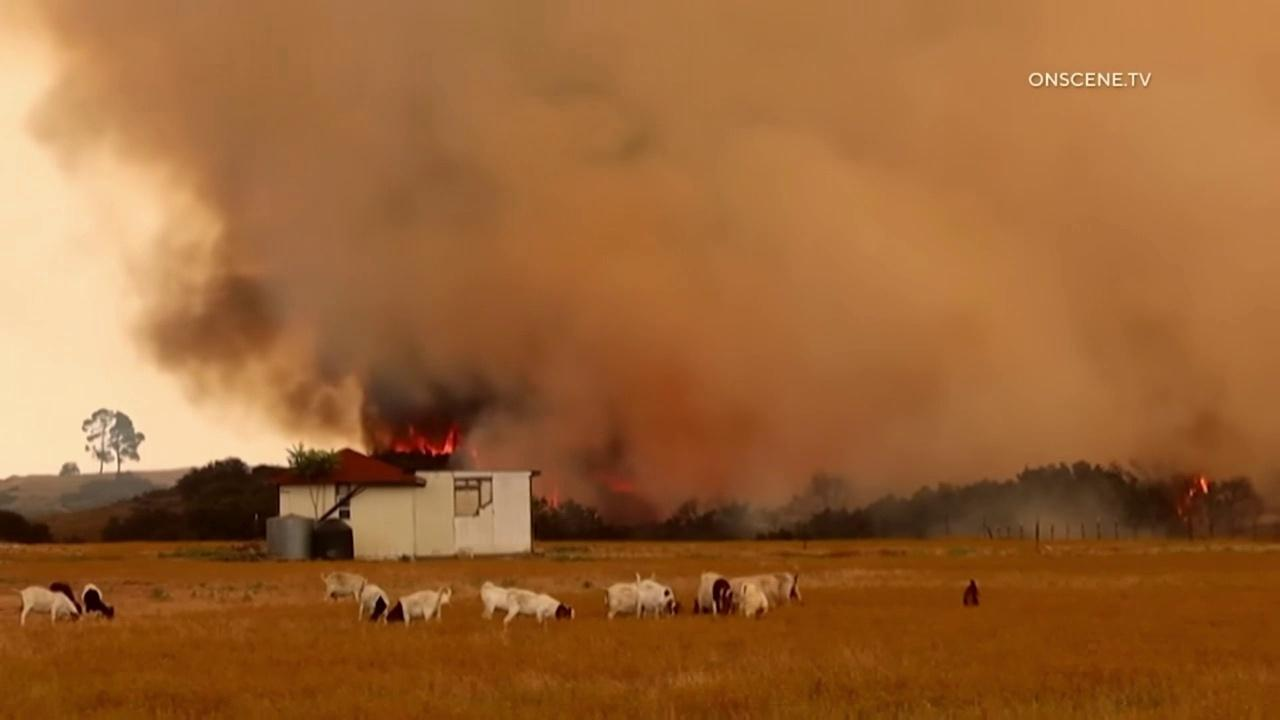fire: (394, 420, 464, 456), (606, 477, 635, 494), (547, 481, 559, 510), (1200, 477, 1210, 494), (1189, 487, 1197, 497), (1178, 504, 1182, 517)
smoke: (0, 0, 1280, 540)
